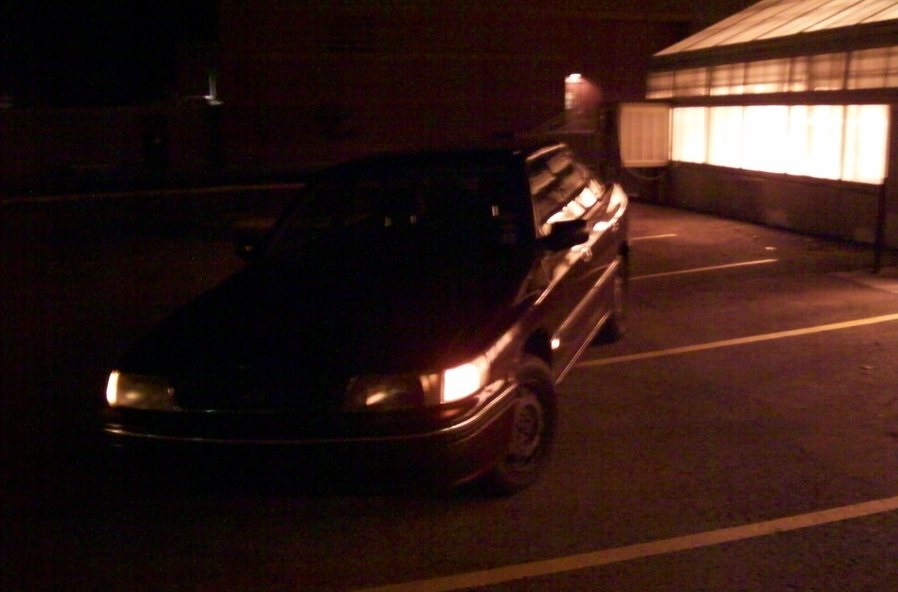car: (78, 125, 638, 518)
